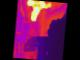Foc: (18, 0, 54, 27)
